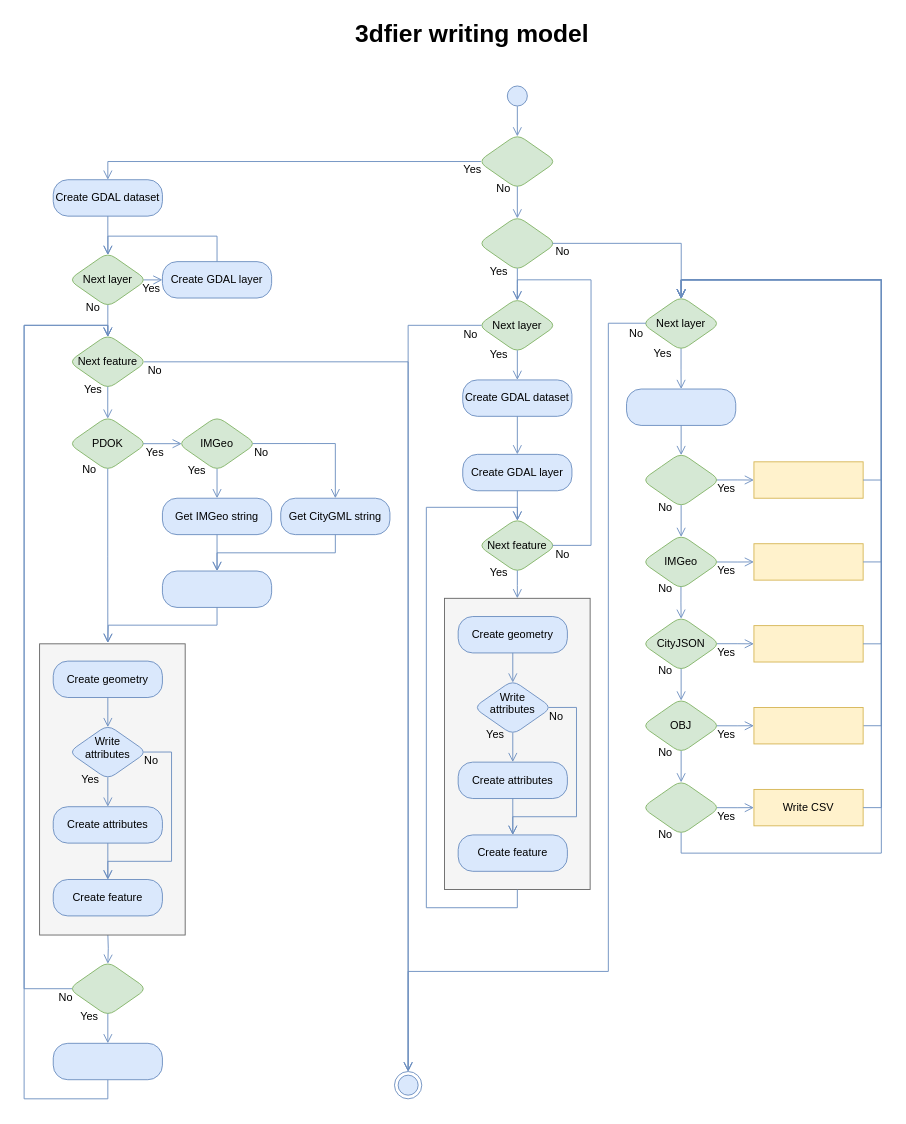
The diagram is 906 pixels wide and 1124 high, and some of its shapes have lost their labels. The centre of each missing label's shape, as x and y in pixels:
"1000th feature" goes at point (107, 988).
"CityGML" goes at point (680, 479).
"Commit transaction" goes at point (107, 1061).
"Create XML attribute" goes at point (217, 588).
"CSV" goes at point (680, 807).
"Database" goes at point (516, 161).
"GDAL format" goes at point (516, 243).
"Open output stream" goes at point (681, 406).
"Write CityGML" goes at point (808, 479).
"Write CityJSON" goes at point (808, 643).
"Write IMGeo" goes at point (808, 561).
"Write OBJ" goes at point (808, 725).
